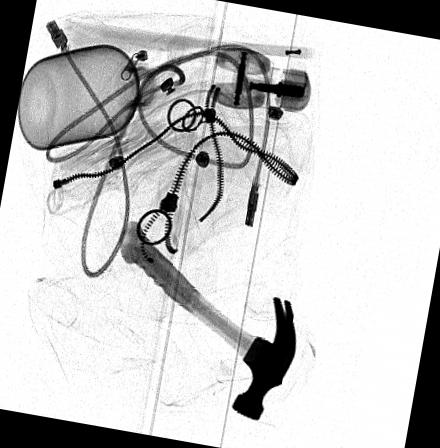Hammer: (117, 221, 296, 420)
